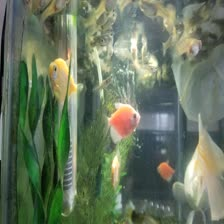Cuezo: (170, 119, 223, 223)
Guppy: (175, 34, 206, 58)
Plano: (43, 55, 84, 103), (98, 100, 143, 139), (153, 155, 176, 181)
